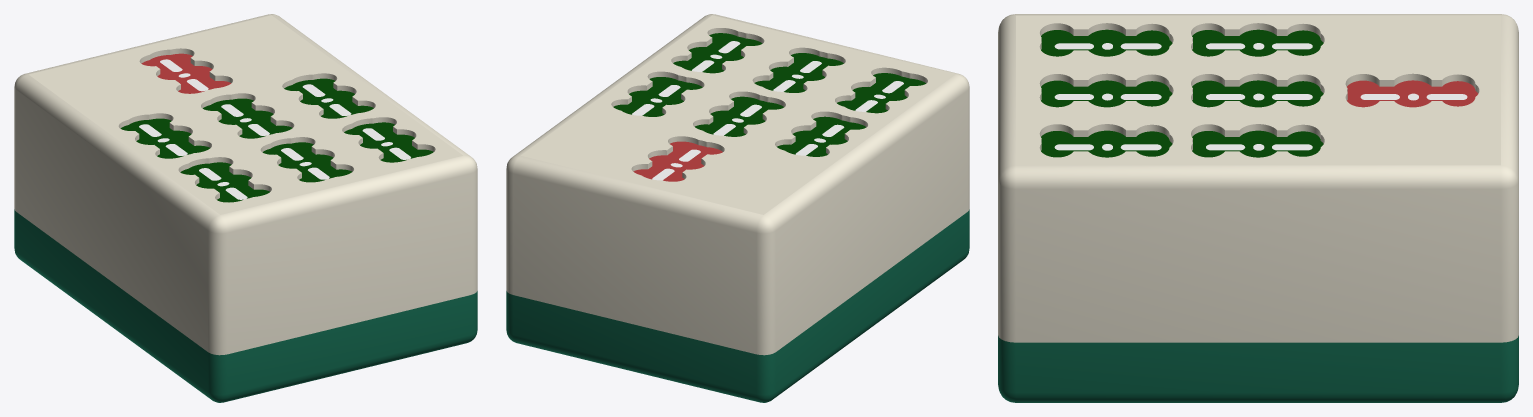
File: Sou7.glb
3 renders of one model, left to right at view 1: azimuth 30°, elevation 25°; view 2: azimuth 150°, elevation 25°; view 3: azimuth 270°, elevation 25°, orthographic. The views are drawn at different scales.
Visible parts, largest first — view 1: Sou7_body, Sou7_inset; view 2: Sou7_body, Sou7_inset; view 3: Sou7_body, Sou7_inset.
Boxes of the visible parts, x1,y1,x2,y2 form: Sou7_body: [14, 14, 477, 402]; Sou7_inset: [120, 53, 433, 202]; Sou7_body: [506, 14, 969, 402]; Sou7_inset: [613, 33, 925, 181]; Sou7_body: [998, 14, 1518, 402]; Sou7_inset: [1041, 29, 1478, 157].
Bounding box in the file's own units: 0.024 × 0.016 × 0.032.
